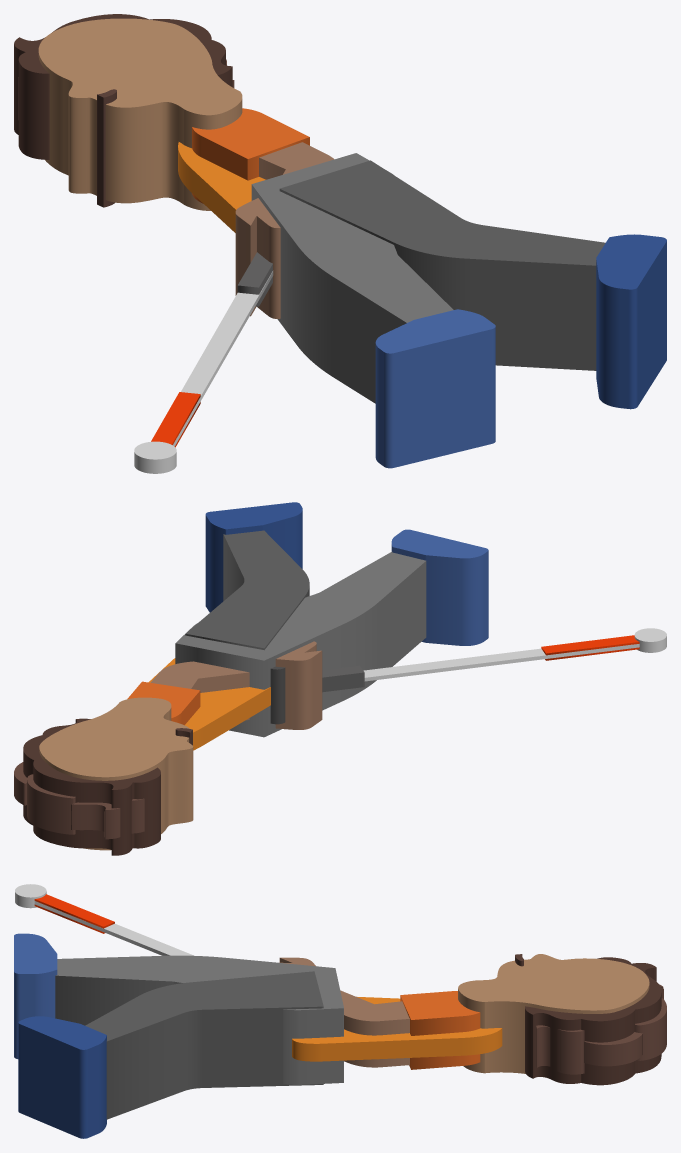
The model's file is emoji_u1f9d1_1f3fd_200d_1f9af.glb.
3 views of the same model, one above another, from view 1: azimuth 30°, elevation 25°; view 2: azimuth 150°, elevation 25°; view 3: azimuth 270°, elevation 25° (orthographic). The views are drawn at different scales.
Parts seen in each view (by area): view 1: emoji_u1f9d1_1f3fd_200d_1f9af; view 2: emoji_u1f9d1_1f3fd_200d_1f9af; view 3: emoji_u1f9d1_1f3fd_200d_1f9af.
Part boxes in pixels (x1,y1,x2,y2): emoji_u1f9d1_1f3fd_200d_1f9af: (14, 14, 666, 473); emoji_u1f9d1_1f3fd_200d_1f9af: (14, 502, 666, 855); emoji_u1f9d1_1f3fd_200d_1f9af: (14, 884, 666, 1138).
Size of the model in its own units: 0.0247 by 0.005 by 0.0333.
